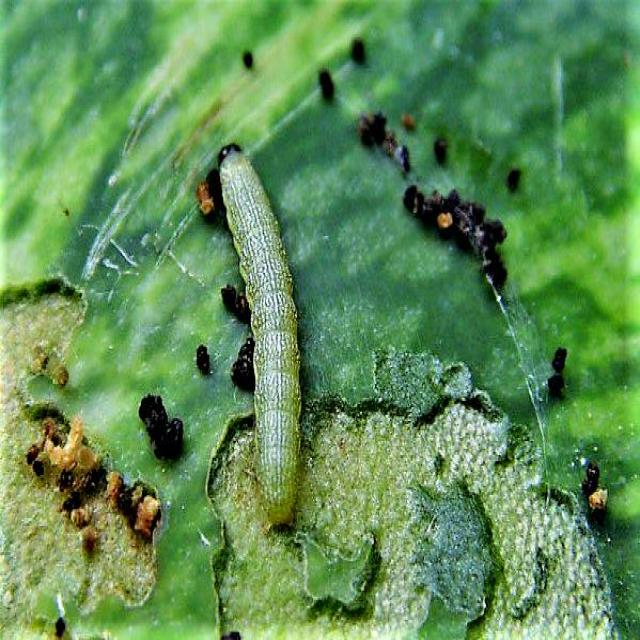Armyworm: (181, 121, 345, 546)
